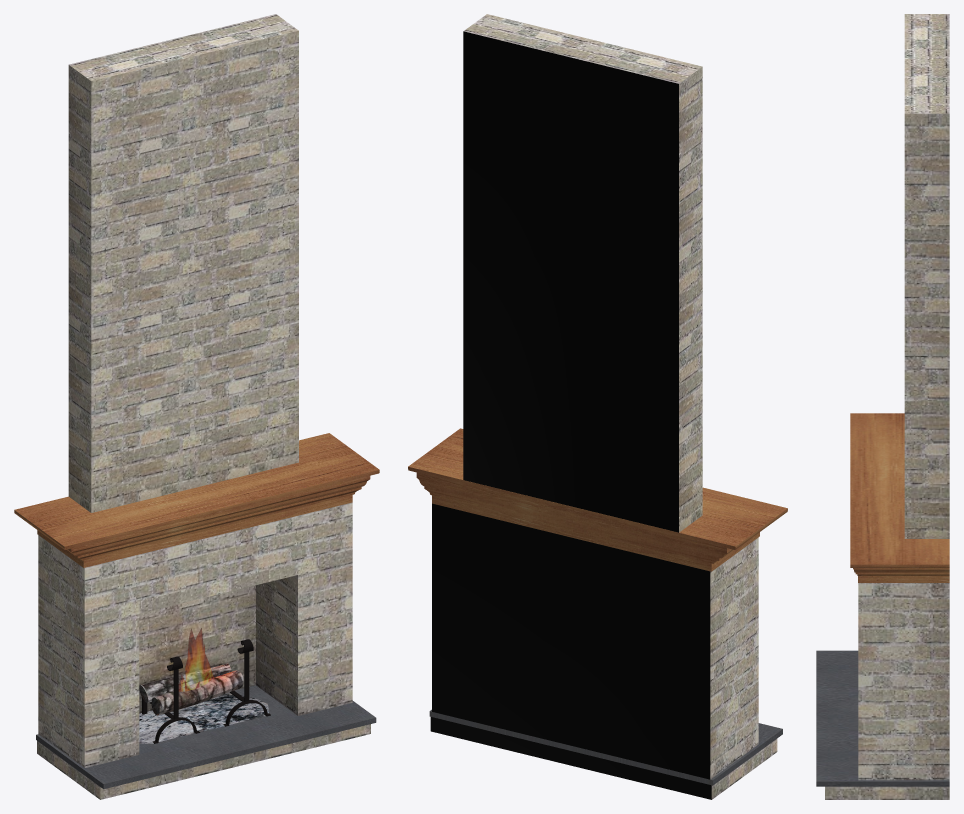
The model's file is fireplace2.obj.
3 renders of one model, left to right at view 1: azimuth 30°, elevation 25°; view 2: azimuth 150°, elevation 25°; view 3: azimuth 270°, elevation 25°, orthographic. The views are drawn at different scales.
Parts seen in each view (by area): view 1: Cube.000, Cube.003, Cube.001_Cube.002, Cube.002_Cube.001, Circle; view 2: Cube.003, Cube.000, Cube.001_Cube.002, Cube.002_Cube.001; view 3: Cube.000, Cube.003, Cube.001_Cube.002, Cube.002_Cube.001.
Part boxes in pixels (x1,y1,x2,y2): Cube.000: [68, 14, 298, 512]; Cube.003: [37, 502, 370, 799]; Cube.001_Cube.002: [14, 433, 379, 743]; Cube.002_Cube.001: [36, 685, 376, 789]; Circle: [142, 669, 200, 743]; Cube.003: [430, 31, 777, 799]; Cube.000: [464, 14, 702, 532]; Cube.001_Cube.002: [408, 428, 787, 571]; Cube.002_Cube.001: [429, 709, 782, 785]; Cube.000: [904, 14, 949, 538]; Cube.003: [825, 583, 949, 799]; Cube.001_Cube.002: [850, 413, 949, 582]; Cube.002_Cube.001: [816, 650, 949, 786].
Size of the model in its own units: 121 by 250 by 44.93.
8 materials, 7 textured.
